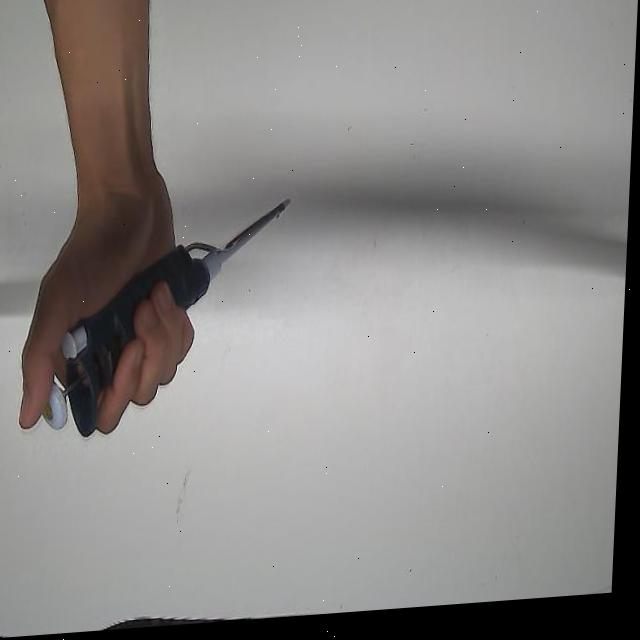Single Channel Pipettor: (44, 198, 296, 443)
